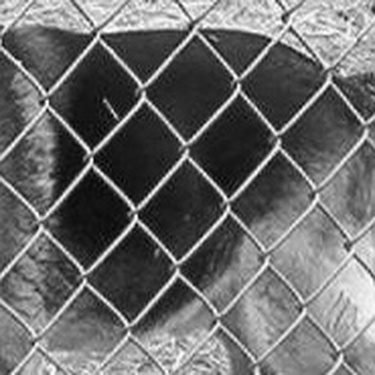dog: (1, 21, 370, 372)
